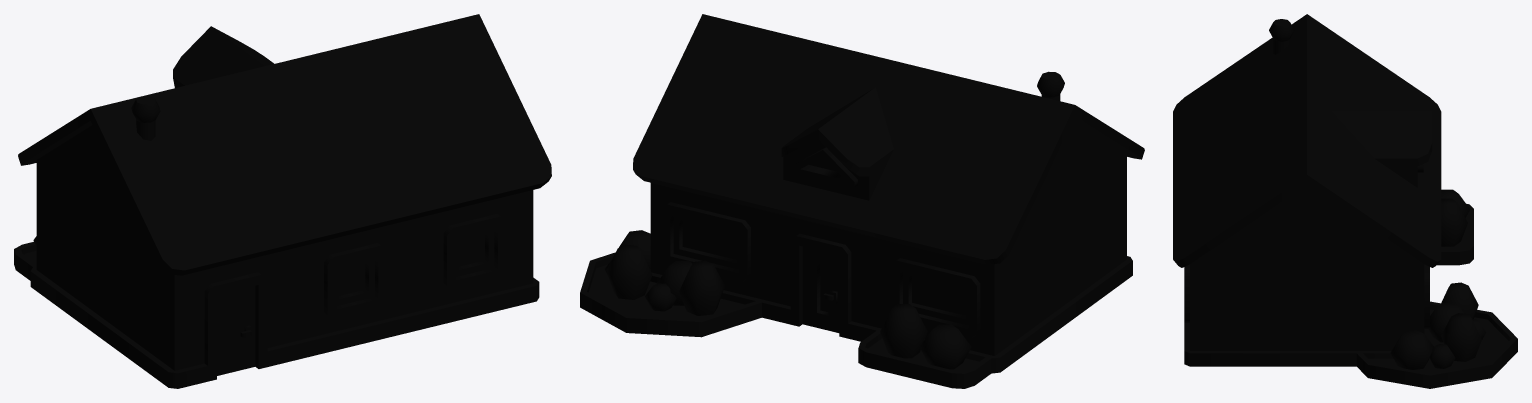
File: building-type-g.glb
3 views of the same model, side by side, from view 1: azimuth 30°, elevation 25°; view 2: azimuth 150°, elevation 25°; view 3: azimuth 270°, elevation 25° (orthographic). The views are drawn at different scales.
Visible parts, largest first — view 1: building-type-g; view 2: building-type-g; view 3: building-type-g.
Boxes of the visible parts, x1=… form: building-type-g: x1=14, y1=14, x2=551, y2=388; building-type-g: x1=580, y1=14, x2=1144, y2=388; building-type-g: x1=1173, y1=14, x2=1517, y2=388.
Bounding box in the file's own units: 1.45 × 0.7683 × 1.18.
Materials: 1 (1 with a texture image).
